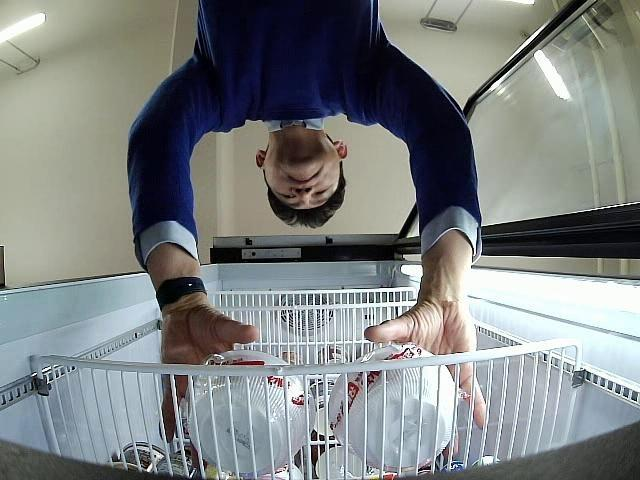09_yukGaeJang: (328, 345, 458, 472), (187, 352, 317, 476)
